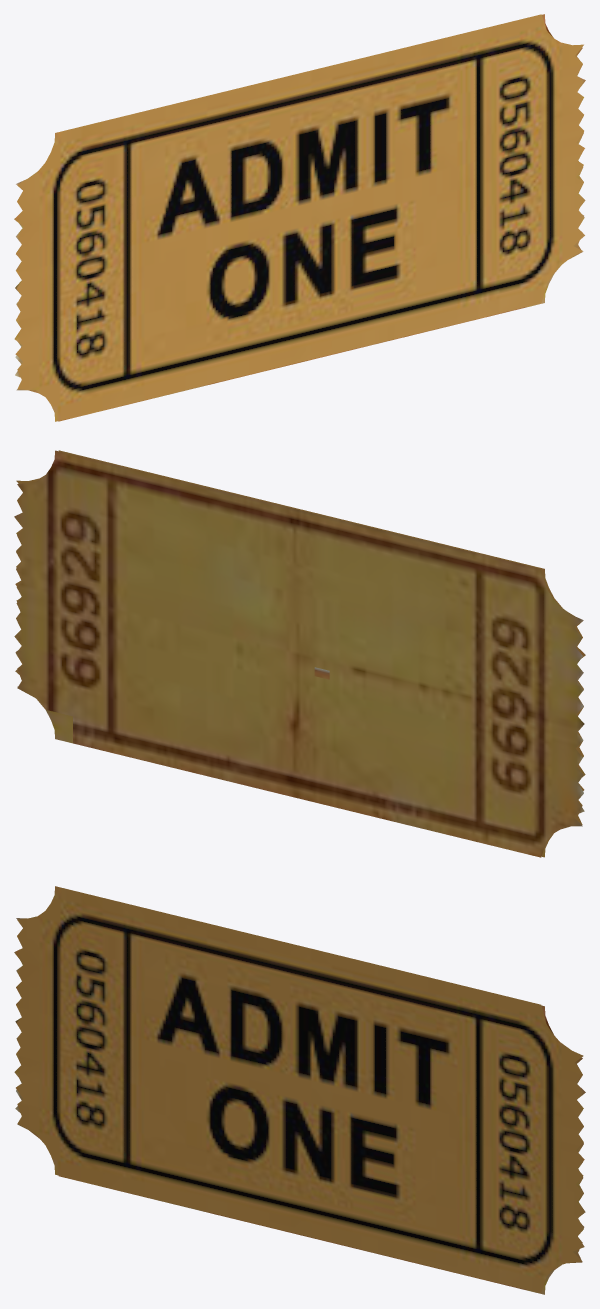
Rendered from ticket.fbx.
3 renders of one model, top to bottom at view 1: azimuth 30°, elevation 25°; view 2: azimuth 150°, elevation 25°; view 3: azimuth 330°, elevation 25°, orthographic.
Parts seen in each view (by area): view 1: Plane, Plane.001; view 2: Plane.001, Plane; view 3: Plane, Plane.001.
Part boxes in pixels (<box>): Plane: <box>14,14,584,421</box>; Plane.001: <box>15,14,585,421</box>; Plane.001: <box>14,450,584,857</box>; Plane: <box>15,450,585,857</box>; Plane: <box>14,886,584,1293</box>; Plane.001: <box>15,916,585,1294</box>.
Size of the model in its own units: 0.1005 by 0.0486 by 7.1e-05.
Materials: 2 (2 with a texture image).
